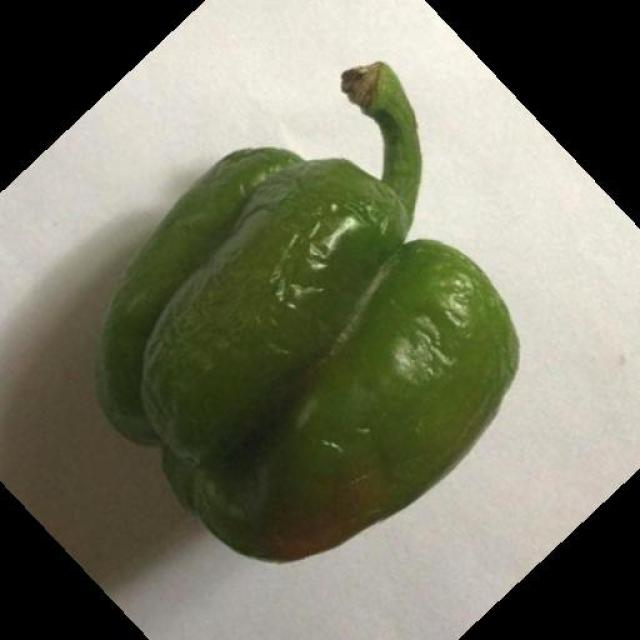Stale_Capsicum: (110, 92, 506, 547)
